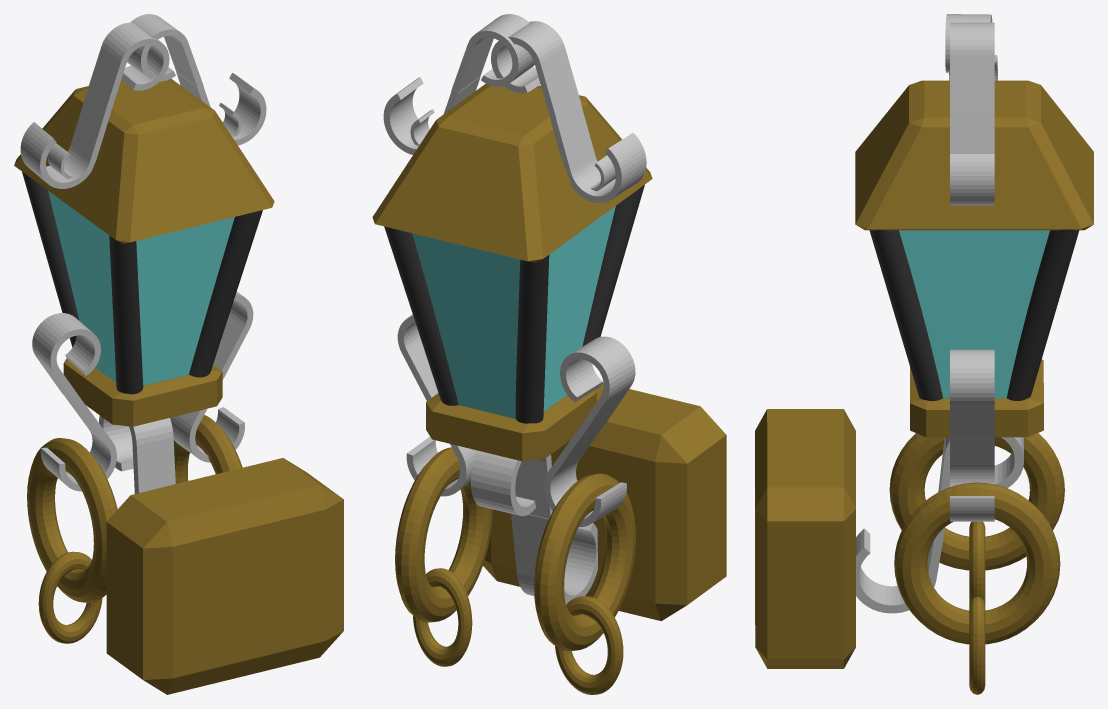
The model's file is wallLamp.fbx.
3 views of the same model, side by side, from view 1: azimuth 30°, elevation 25°; view 2: azimuth 150°, elevation 25°; view 3: azimuth 270°, elevation 25° (orthographic). The views are drawn at different scales.
Parts seen in each view (by area): view 1: Cube.164, Cube.161, Cube.163, Torus.088, Cube.162, Cylinder.098, Cube.153, Cylinder.099, Cube.154, Cube.165, Cube.158, Torus.087 (+7 smaller); view 2: Cube.161, Cube.164, Cube.163, Torus.088, Torus.086, Cube.162, Cylinder.097, Cube.154, Cube.153, Cube.158, Cube.165, Cube.166 (+9 smaller); view 3: Cube.161, Cube.164, Cube.163, Torus.086, Torus.088, Cylinder.090, Cylinder.099, Cube.155, Cube.156, Cube.159, Cube.162, Cube.160 (+5 smaller).
Boxes of the visible parts, left/top/right/bottom form: Cube.164: left=106, top=458, right=343, bottom=694; Cube.161: left=14, top=78, right=274, bottom=243; Cube.163: left=48, top=191, right=234, bottom=385; Torus.088: left=27, top=438, right=117, bottom=603; Cube.162: left=63, top=358, right=222, bottom=426; Cylinder.098: left=109, top=235, right=143, bottom=394; Cube.153: left=85, top=22, right=169, bottom=113; Cylinder.099: left=189, top=210, right=262, bottom=377; Cube.154: left=20, top=97, right=110, bottom=188; Cube.165: left=99, top=415, right=175, bottom=493; Cube.158: left=32, top=313, right=100, bottom=409; Torus.087: left=38, top=551, right=102, bottom=643; Cube.161: left=372, top=83, right=652, bottom=262; Cube.164: left=483, top=382, right=726, bottom=621; Cube.163: left=412, top=206, right=615, bottom=418; Torus.088: left=534, top=473, right=635, bottom=651; Torus.086: left=395, top=447, right=492, bottom=622; Cube.162: left=426, top=390, right=596, bottom=461; Cylinder.097: left=515, top=255, right=549, bottom=423; Cube.154: left=550, top=103, right=646, bottom=203; Cube.153: left=491, top=21, right=580, bottom=118; Cube.158: left=560, top=336, right=635, bottom=439; Cube.165: left=471, top=450, right=552, bottom=518; Cube.166: left=511, top=513, right=597, bottom=603; Cube.161: left=855, top=80, right=1093, bottom=230; Cube.164: left=755, top=409, right=855, bottom=668; Cube.163: left=899, top=230, right=1049, bottom=398; Torus.086: left=894, top=482, right=1060, bottom=644; Torus.088: left=889, top=433, right=1064, bottom=570; Cylinder.090: left=1007, top=229, right=1079, bottom=400; Cylinder.099: left=869, top=230, right=942, bottom=401; Cube.155: left=950, top=113, right=994, bottom=205; Cube.156: left=950, top=22, right=994, bottom=112; Cube.159: left=950, top=349, right=994, bottom=435; Cube.162: left=910, top=359, right=1043, bottom=437; Cube.160: left=950, top=435, right=994, bottom=521.
Bounding box in the file's own units: 193 × 500 × 240.
